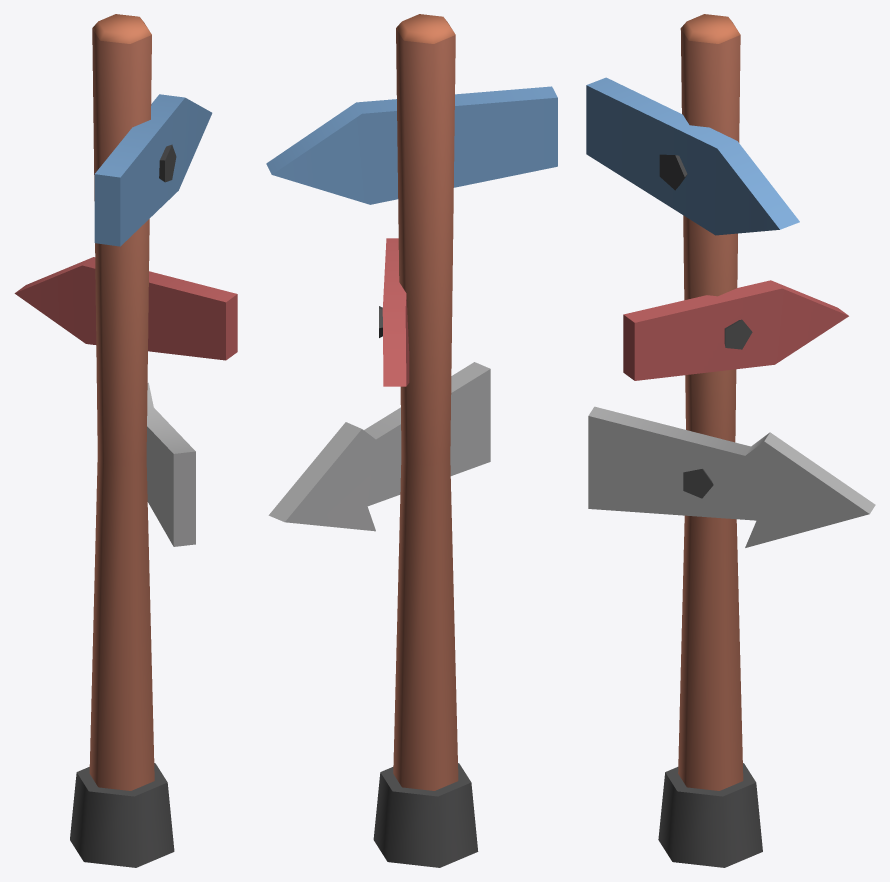
File: sn_signpost.glb
3 views of the same model, side by side, from view 1: azimuth 30°, elevation 25°; view 2: azimuth 150°, elevation 25°; view 3: azimuth 270°, elevation 25° (orthographic).
Visible parts, largest first — view 1: sn_signpost; view 2: sn_signpost; view 3: sn_signpost.
Part boxes in pixels (x1=…): sn_signpost: x1=14, y1=14, x2=237, y2=867; sn_signpost: x1=266, y1=14, x2=557, y2=867; sn_signpost: x1=586, y1=14, x2=875, y2=867.
Bounding box in the file's own units: 0.6001 × 2.3 × 0.7346.
